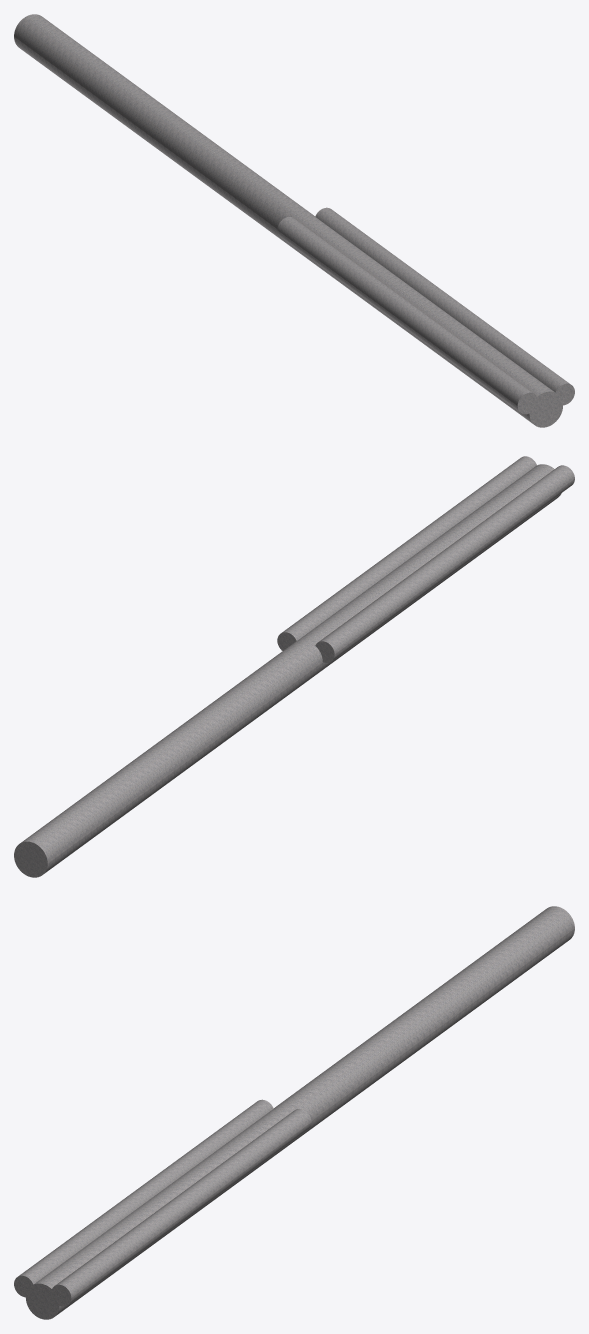
3 renders of one model, top to bottom at view 1: azimuth 30°, elevation 25°; view 2: azimuth 150°, elevation 25°; view 3: azimuth 330°, elevation 25°, orthographic.
Parts seen in each view (by area): view 1: 0_0_2_1_2_3_2_2_2; view 2: 0_0_2_1_2_3_2_2_2; view 3: 0_0_2_1_2_3_2_2_2.
Part boxes in pixels (box(x1,y1,x2,y2)): 0_0_2_1_2_3_2_2_2: box(14, 14, 574, 427); 0_0_2_1_2_3_2_2_2: box(14, 456, 574, 877); 0_0_2_1_2_3_2_2_2: box(14, 906, 574, 1319).
Bounding box in the file's own units: 1.7 × 1.1 × 26.47.
Materials: 3 (3 with a texture image).
